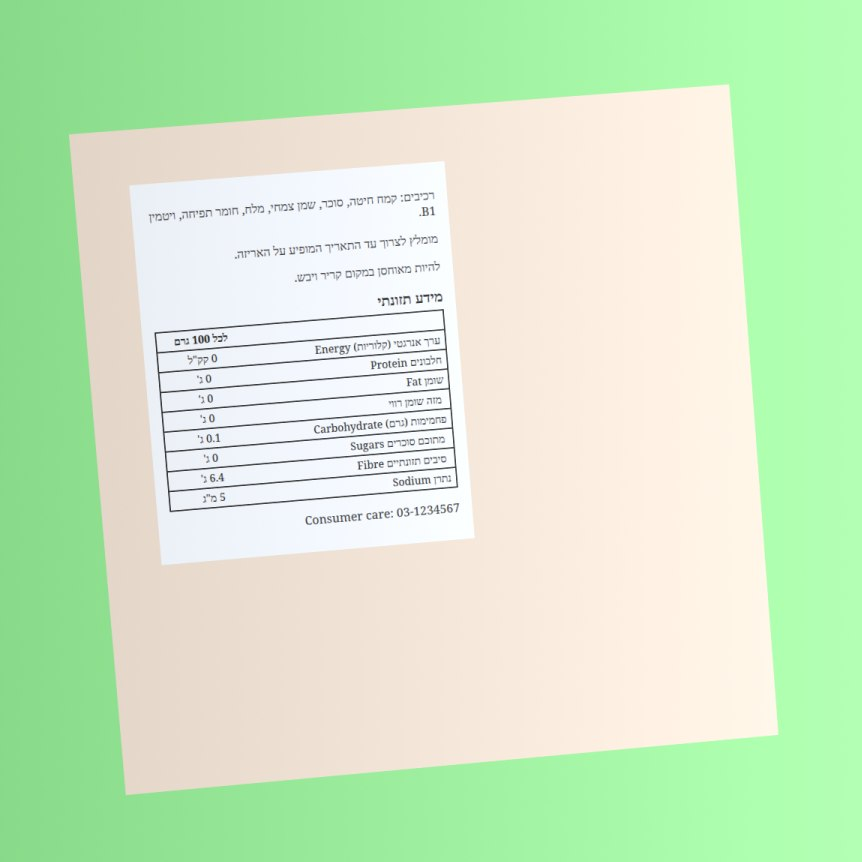carbs: (195, 428, 223, 449)
energy: (185, 349, 220, 370)
fat: (196, 389, 216, 409)
protein: (194, 369, 214, 389)
